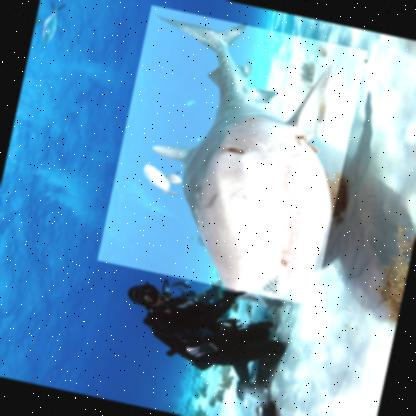tiger-shark: (96, 4, 368, 306)
